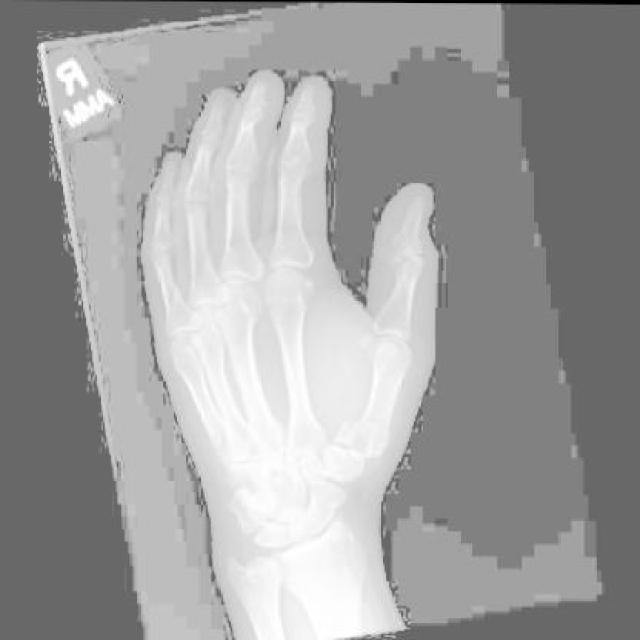Fracture: (325, 411, 379, 462)
